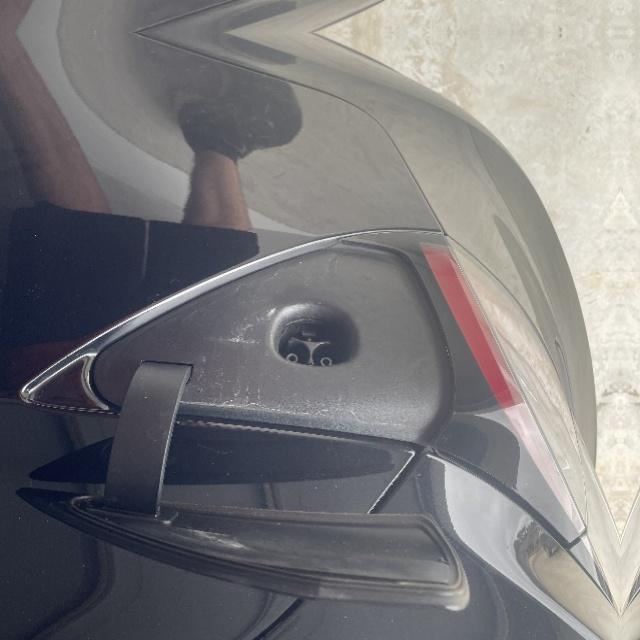Tesla Model-S-: (260, 295, 371, 388)
